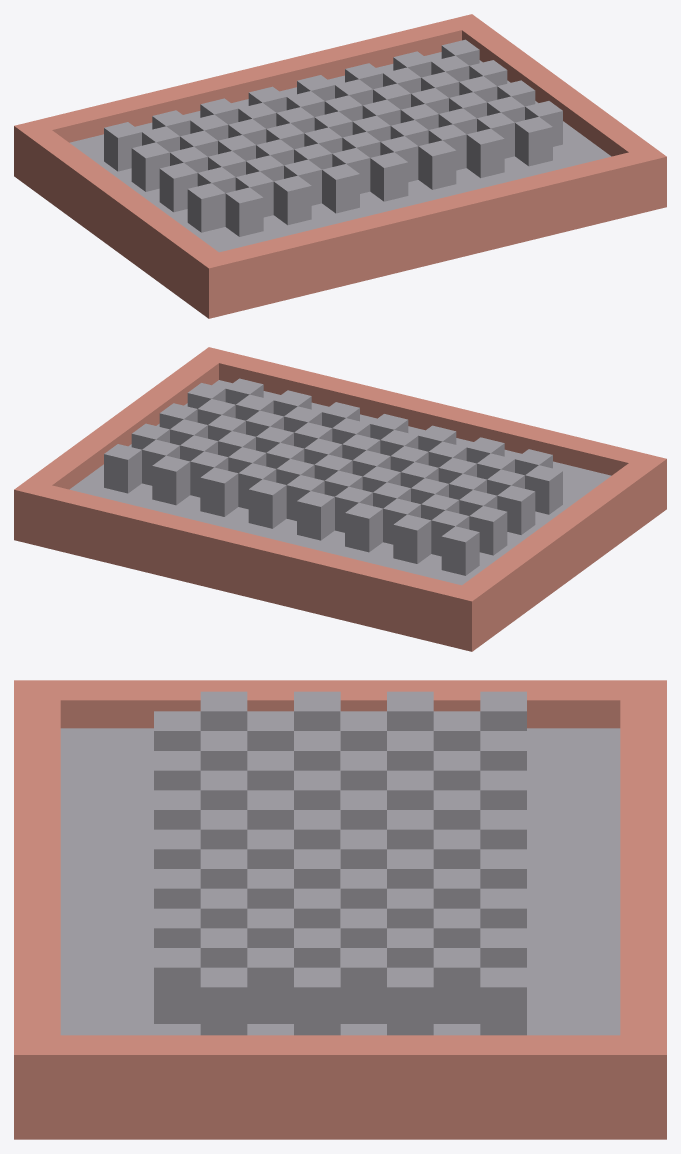
File: T_SlowField.fbx
The picture shows the model from 3 angles, top to bottom: view 1: azimuth 30°, elevation 25°; view 2: azimuth 150°, elevation 25°; view 3: azimuth 270°, elevation 25°; orthographic projection. The views are drawn at different scales.
Visible parts, largest first — view 1: Untitled; view 2: Untitled; view 3: Untitled.
Part boxes in pixels (x1,y1,x2,y2): Untitled: (14,14,666,318); Untitled: (14,347,666,651); Untitled: (14,680,666,1139).
Bounding box in the file's own units: 5.7 × 1 × 4.2.
